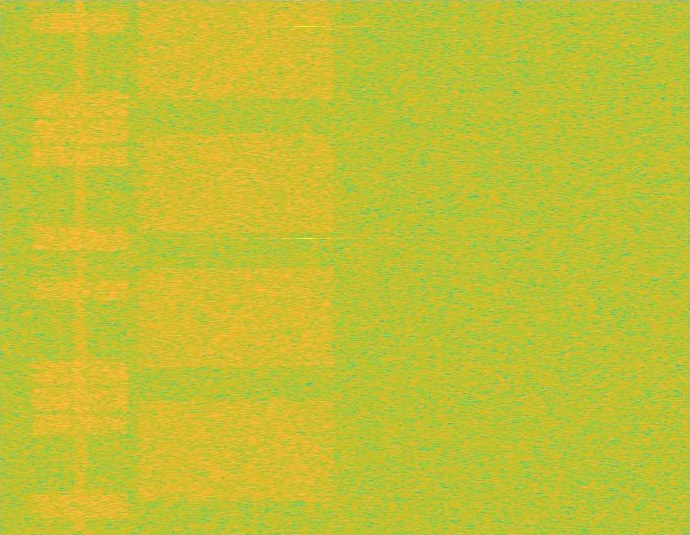5G: (133, 0, 340, 534)
DSSS: (74, 0, 88, 534)
LTE: (29, 0, 132, 534)
Radar: (299, 0, 313, 534)
